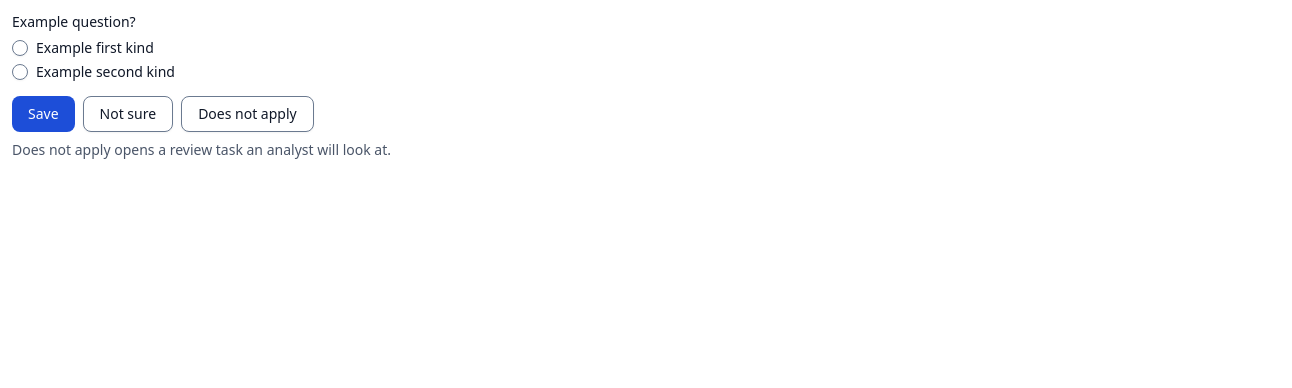
Scenario: AnswerForm › shows the service's problem and the form's errors
The width and height of the screenshot is (1292, 388).
Click the button "Not sure" at (128, 114), box [83,96,173,132]
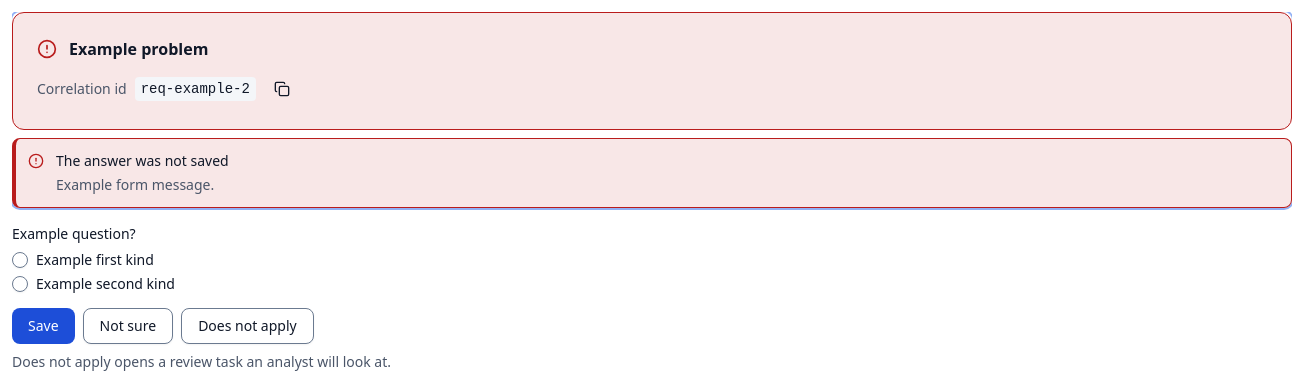
expect the text "Example problem" is shown: met, box [69,38,208,60]
expect the text "req-example-2" is shown: met, box [135,77,256,101]
expect the list item "Example form message." is shown: met, box [56,175,214,194]
